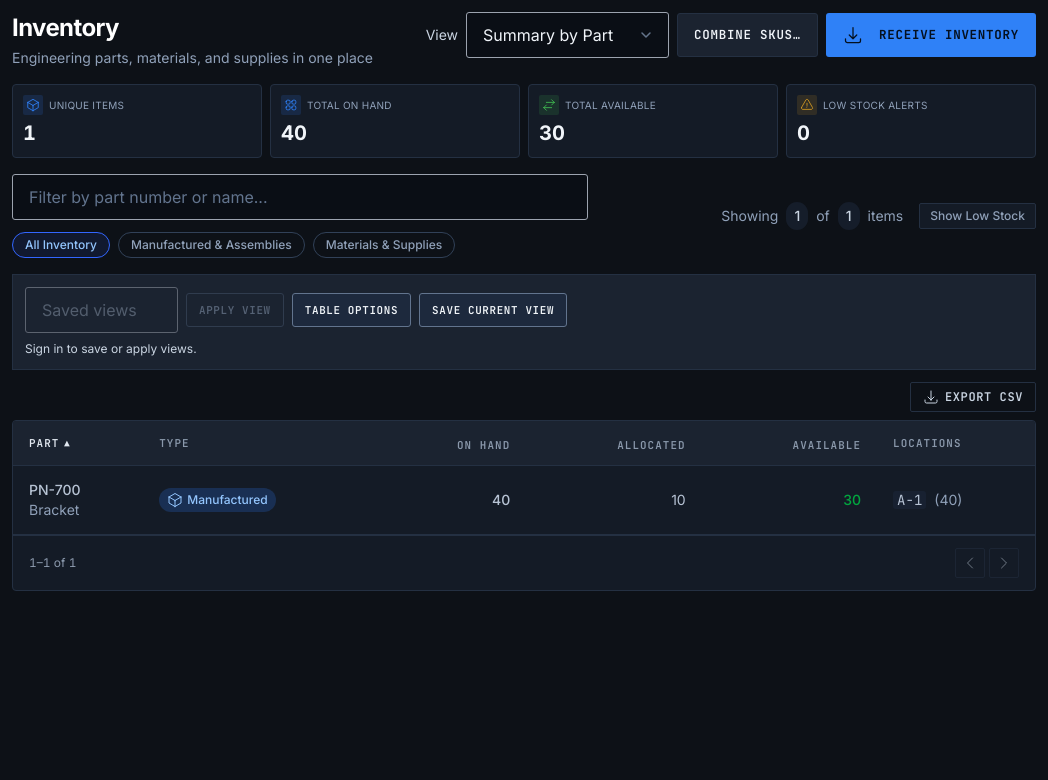
Scenario: superuser qualifies even on a role that lacks the permission
Expected: the button "Receive Inventory" is shown, [826,13,1036,57]
Select "Detail by Location" in the dropdown named "Inventory view" at (568, 35), box [466,12,669,58]
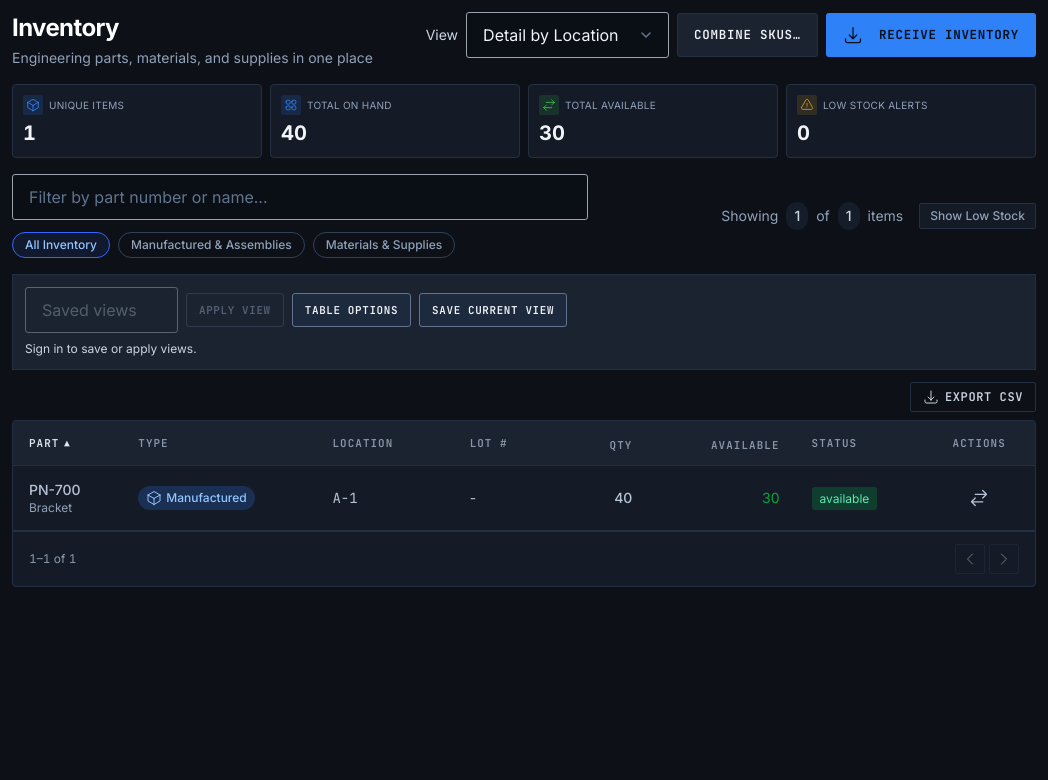
Expected: the button named "Transfer inventory" is shown, [969,488,989,508]
